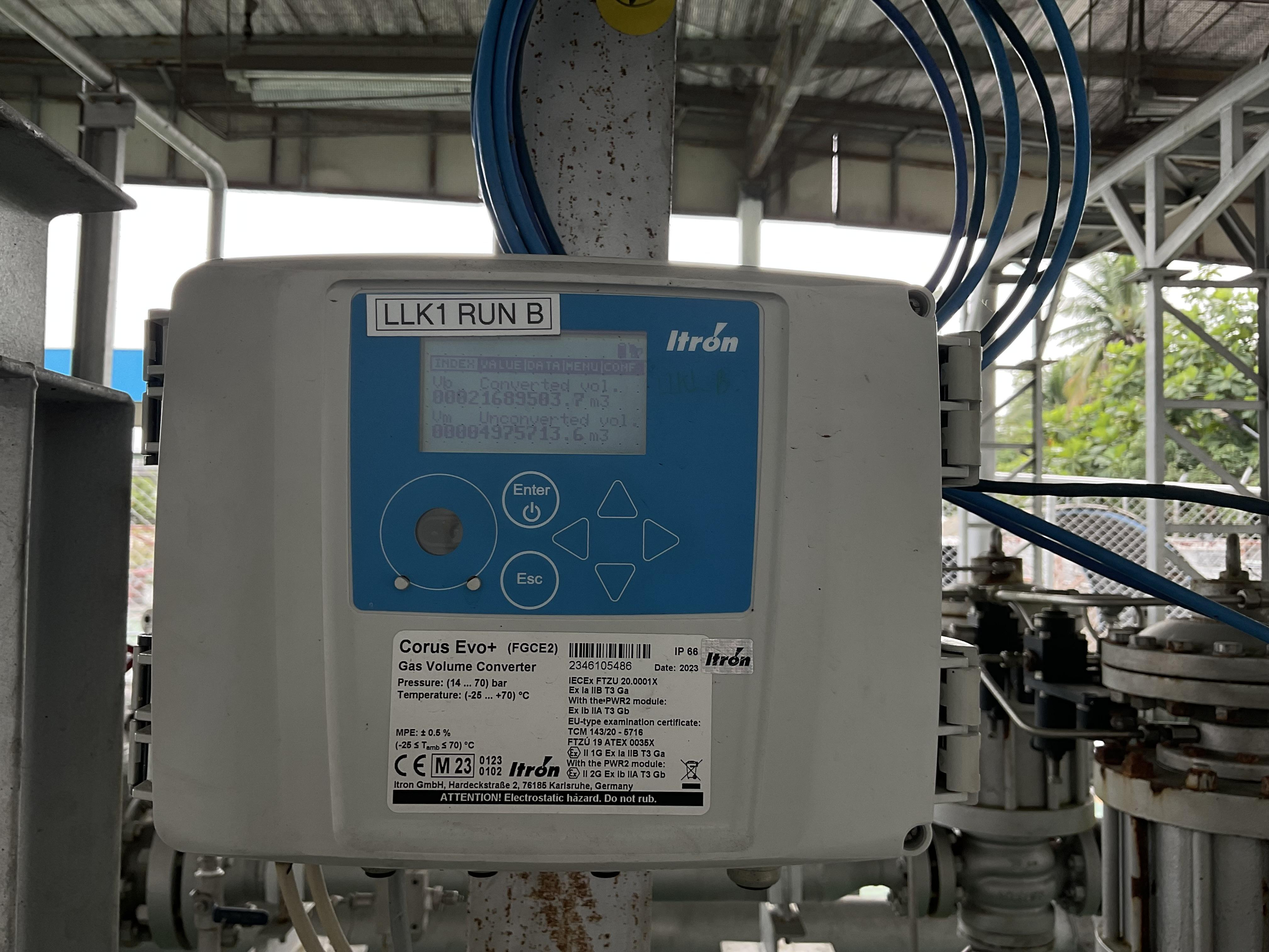digital_screen: (420, 330, 647, 454)
